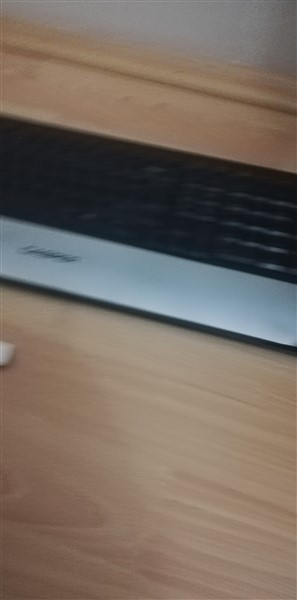klavye: (1, 107, 297, 348)
